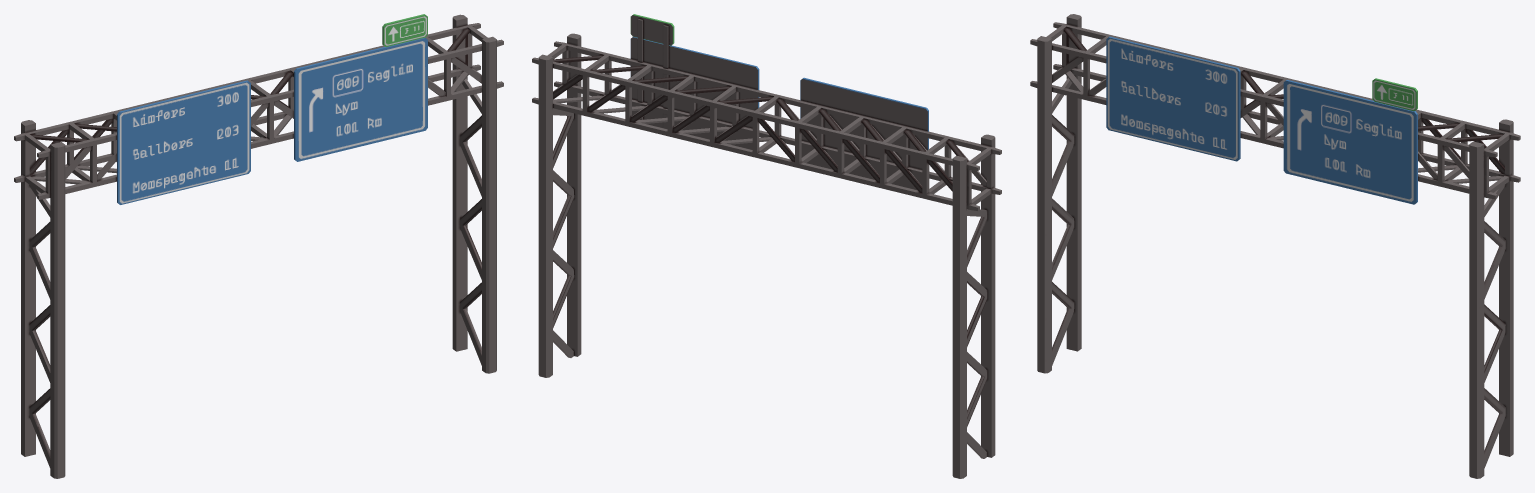
Rendered from OP-Road_Sign.fbx.
3 renders of one model, left to right at view 1: azimuth 30°, elevation 25°; view 2: azimuth 150°, elevation 25°; view 3: azimuth 330°, elevation 25°, orthographic. The views are drawn at different scales.
Visible parts, largest first — view 1: Cube, Cube.002, Cube.001; view 2: Cube, Cube.002, Cube.001; view 3: Cube, Cube.002, Cube.001.
Boxes of the visible parts, <box> form: Cube: <box>14,14,503,478</box>; Cube.002: <box>294,14,427,161</box>; Cube.001: <box>117,80,250,204</box>; Cube: <box>532,33,1001,478</box>; Cube.002: <box>630,14,759,149</box>; Cube.001: <box>800,77,928,190</box>; Cube: <box>1030,14,1520,478</box>; Cube.002: <box>1283,78,1417,204</box>; Cube.001: <box>1106,36,1240,161</box>.
Size of the model in its own units: 2100 by 1600 by 280.
